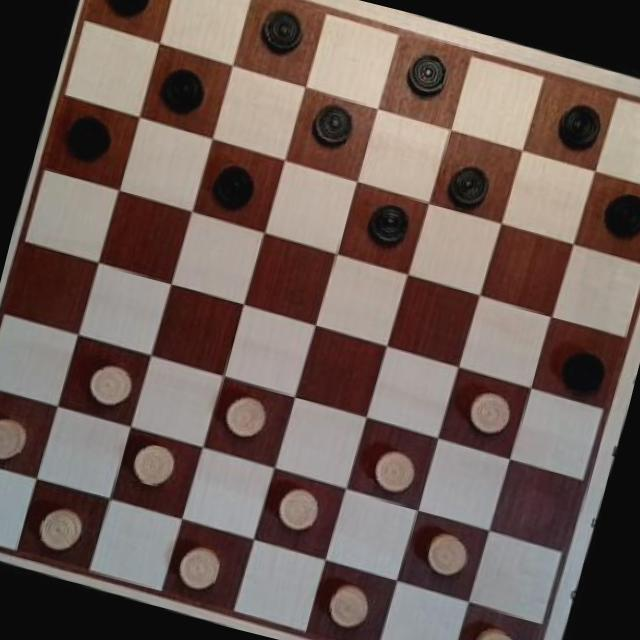BOARD: (0, 0, 640, 640)
black: (546, 336, 617, 404), (298, 93, 372, 156), (355, 190, 415, 253), (397, 41, 458, 102), (152, 58, 212, 120), (58, 108, 120, 168), (253, 0, 312, 63), (438, 156, 497, 218), (550, 93, 608, 156), (205, 155, 262, 216), (597, 184, 640, 242), (93, 0, 162, 27)
white: (72, 349, 144, 418), (362, 436, 420, 506), (28, 499, 92, 559), (459, 377, 516, 443), (416, 523, 472, 586), (318, 575, 375, 636), (170, 537, 228, 594), (272, 480, 328, 536), (218, 390, 270, 444), (126, 436, 175, 485), (0, 403, 32, 467), (464, 616, 524, 640)
